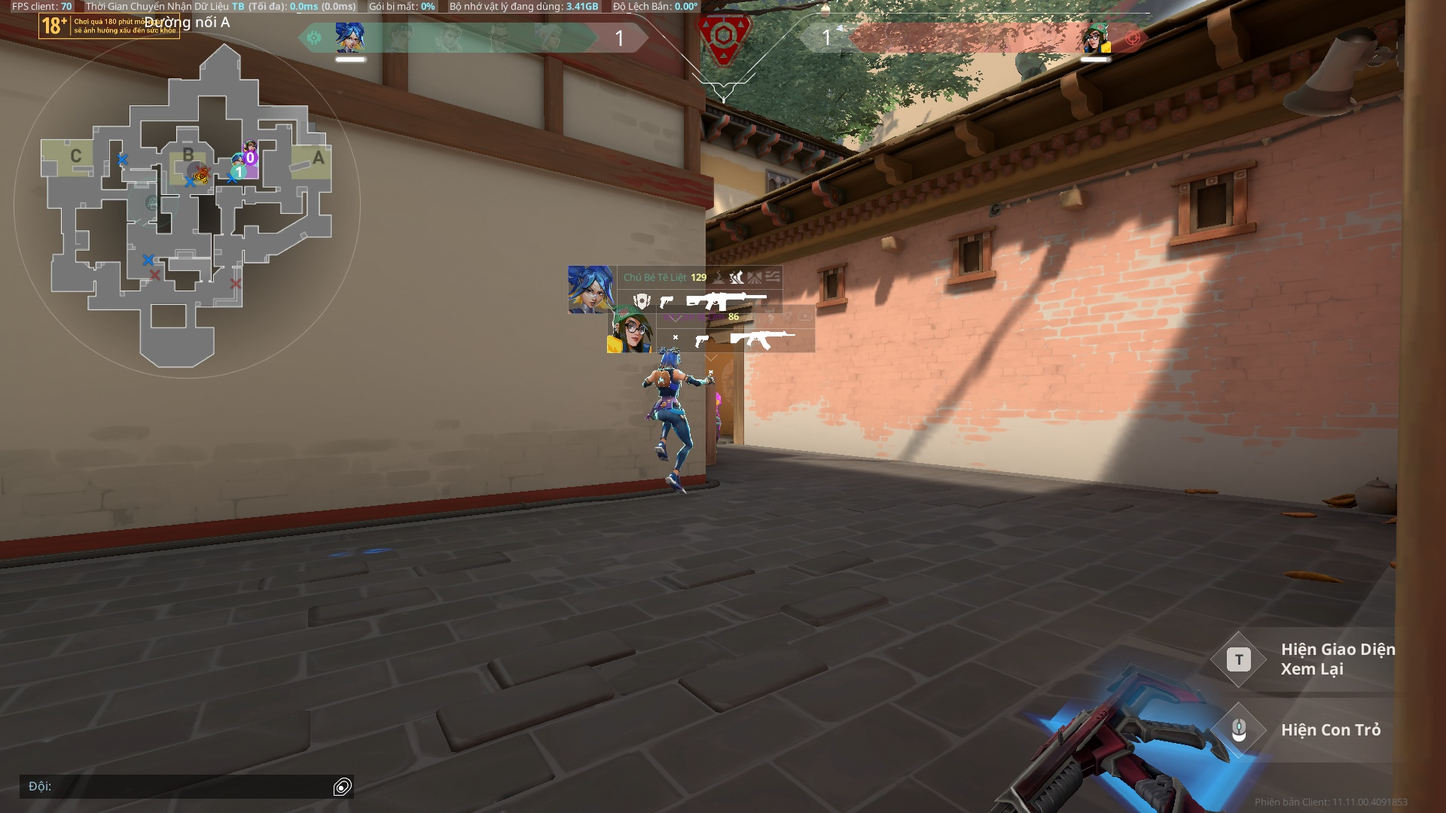body: (715, 391, 721, 417)
